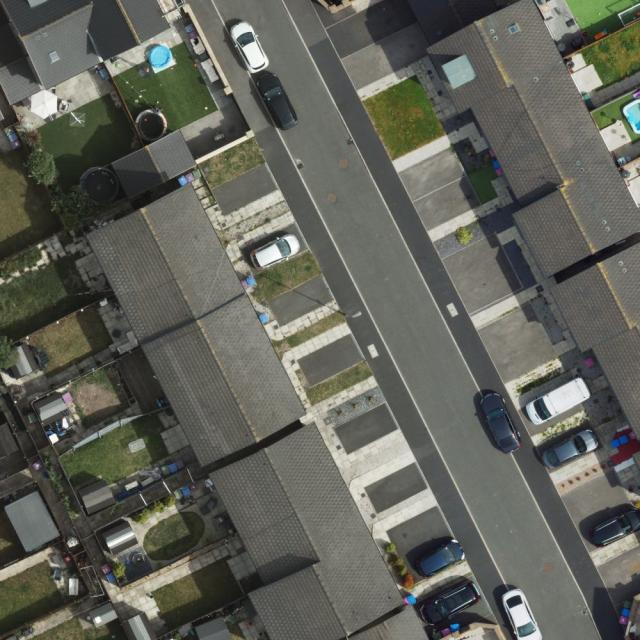roof: (88, 186, 309, 465), (426, 0, 637, 281), (209, 421, 404, 639), (0, 0, 176, 105), (551, 241, 640, 444), (347, 608, 428, 640)
skylight: (506, 21, 524, 37), (48, 47, 62, 64)
